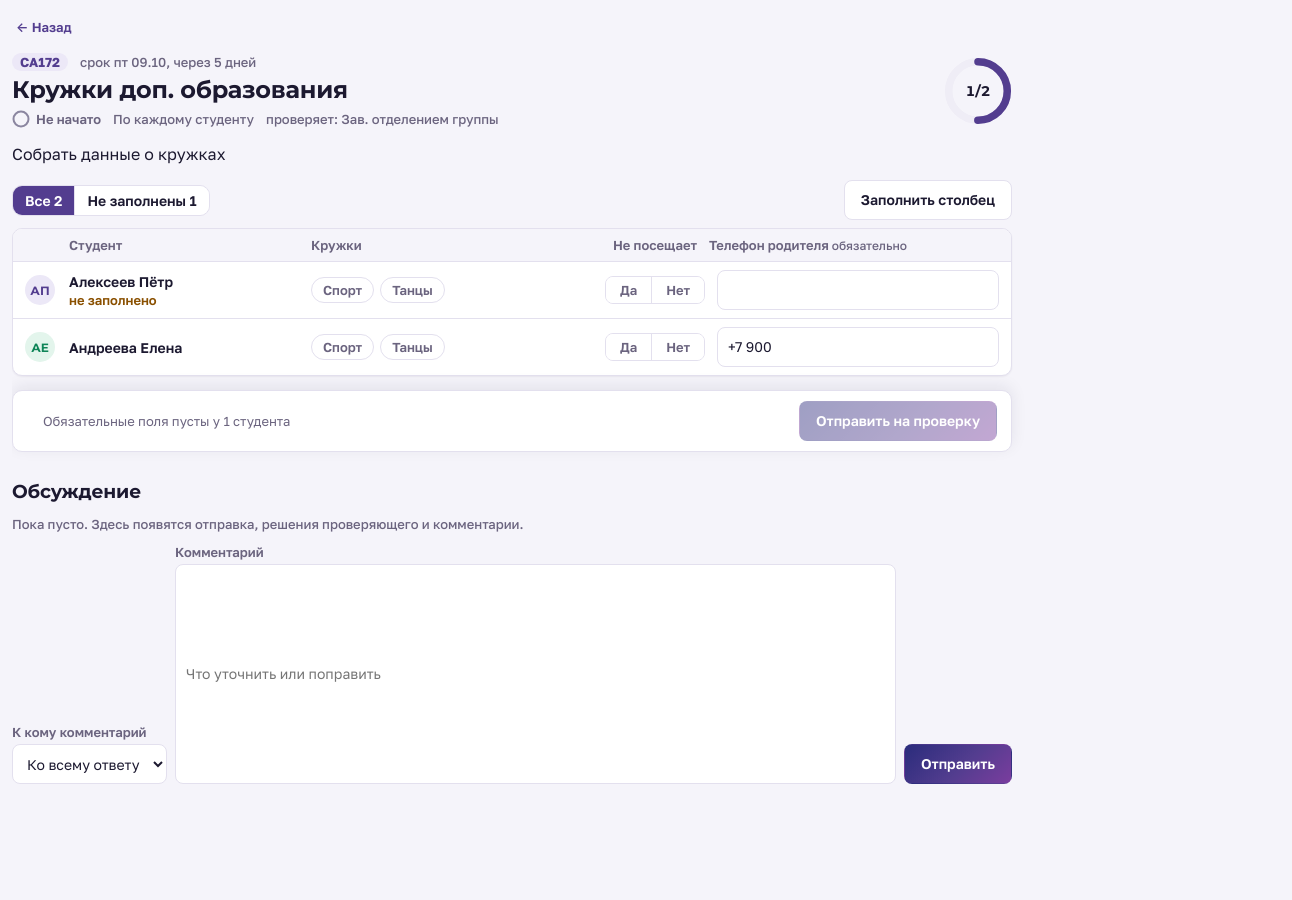
Test: TaskAssignmentPage — заполнение и автосохранение › ошибка сохранения видна в панели и не теряет правки
This screenshot has width=1292, height=900.
Expected: the text "Алексеев Пётр" is shown, [69,272,173,290]
Type "1" into the field named "Телефон родителя: Алексеев Пётр" at point(858, 290), box [717,270,999,310]
Wait 1600 ms
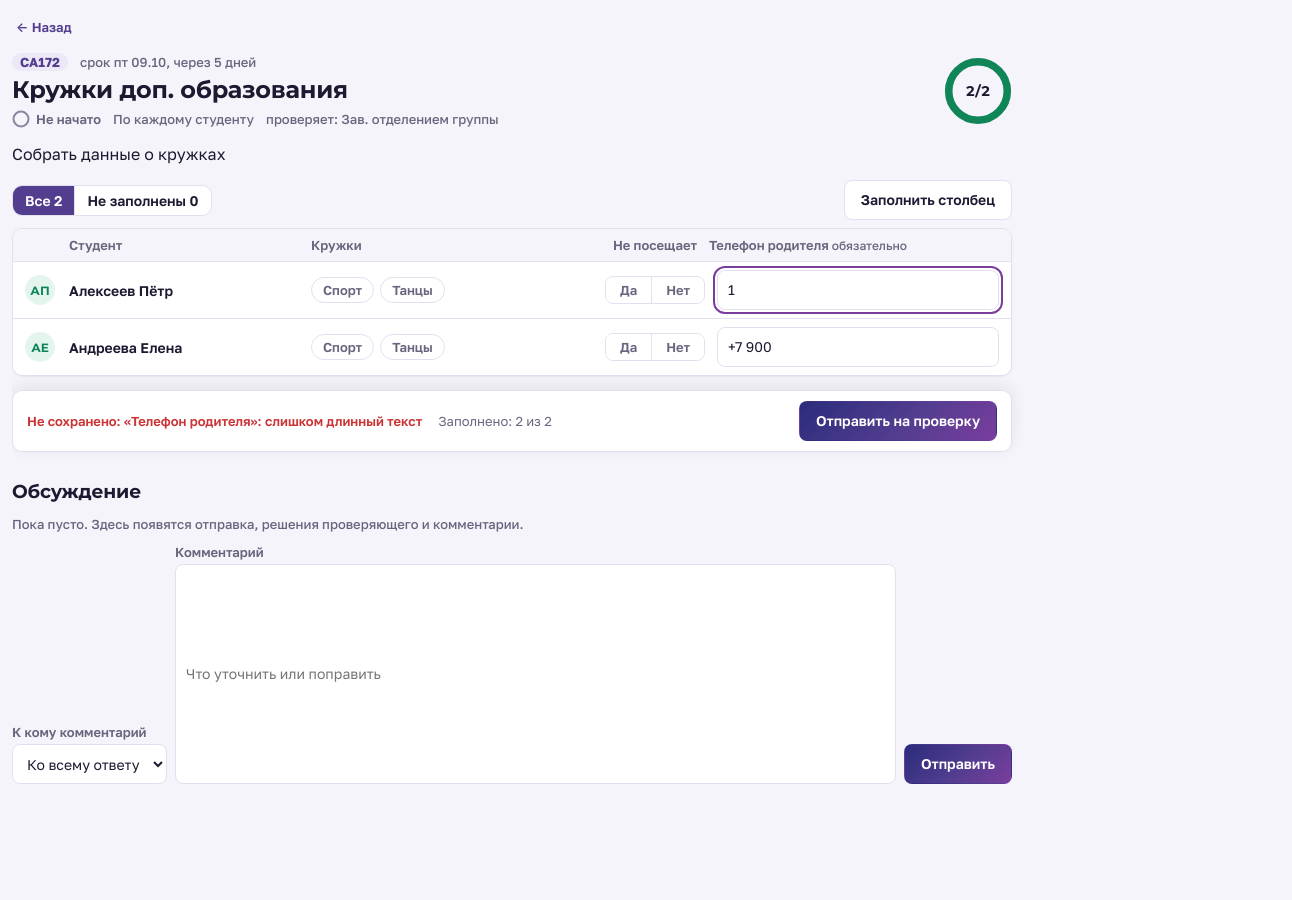
Now the text "Не сохранено: «Телефон родителя»: слишком длинный текст" is shown, box [27,413,422,429]
